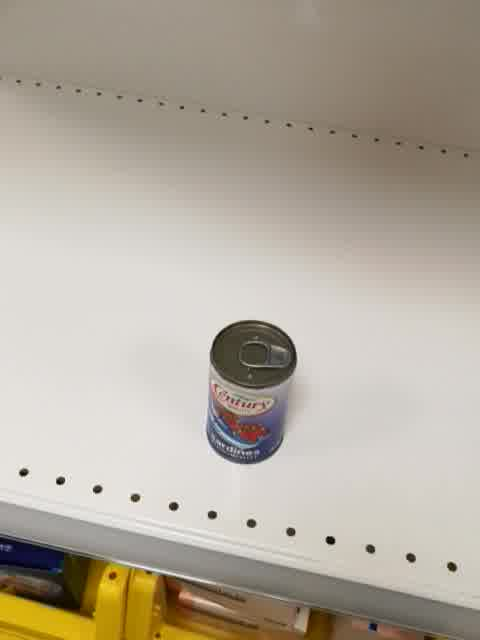sardine: (206, 318, 298, 464)
